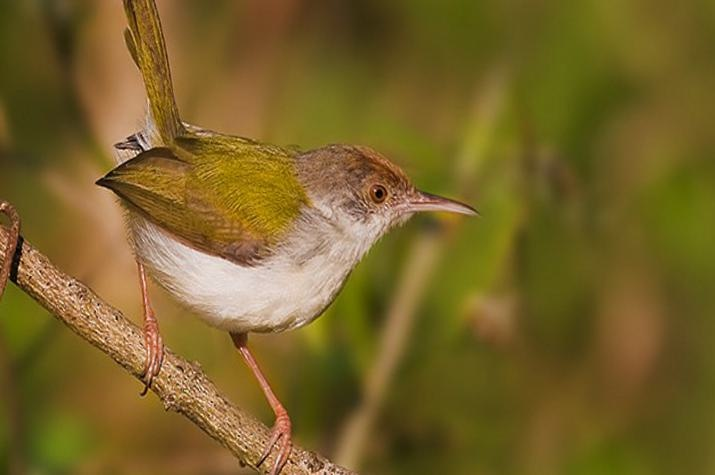tailorbird: (94, 10, 466, 432)
